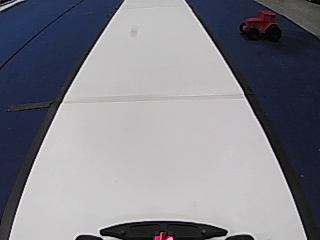tractor: (239, 9, 282, 41)
